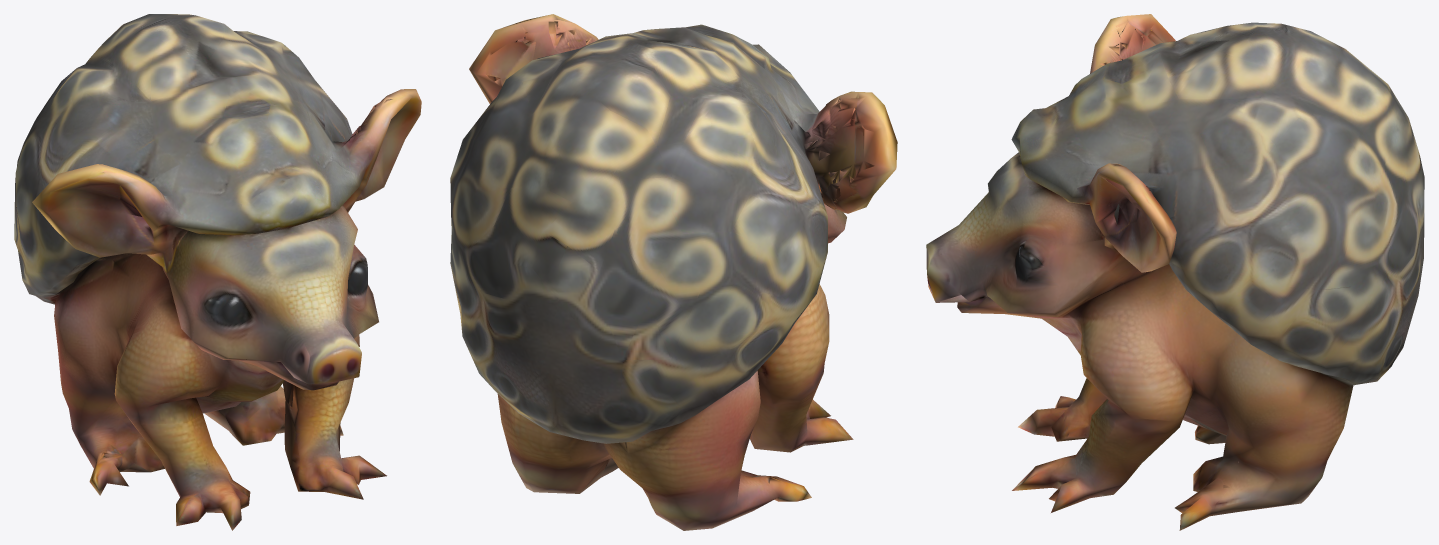
The model's file is shab.glb.
3 renders of one model, left to right at view 1: azimuth 30°, elevation 25°; view 2: azimuth 150°, elevation 25°; view 3: azimuth 270°, elevation 25°, orthographic. The views are drawn at different scales.
Bounding box in the file's own units: 1.9 × 1.94 × 2.01.
1 material, 1 textured.
